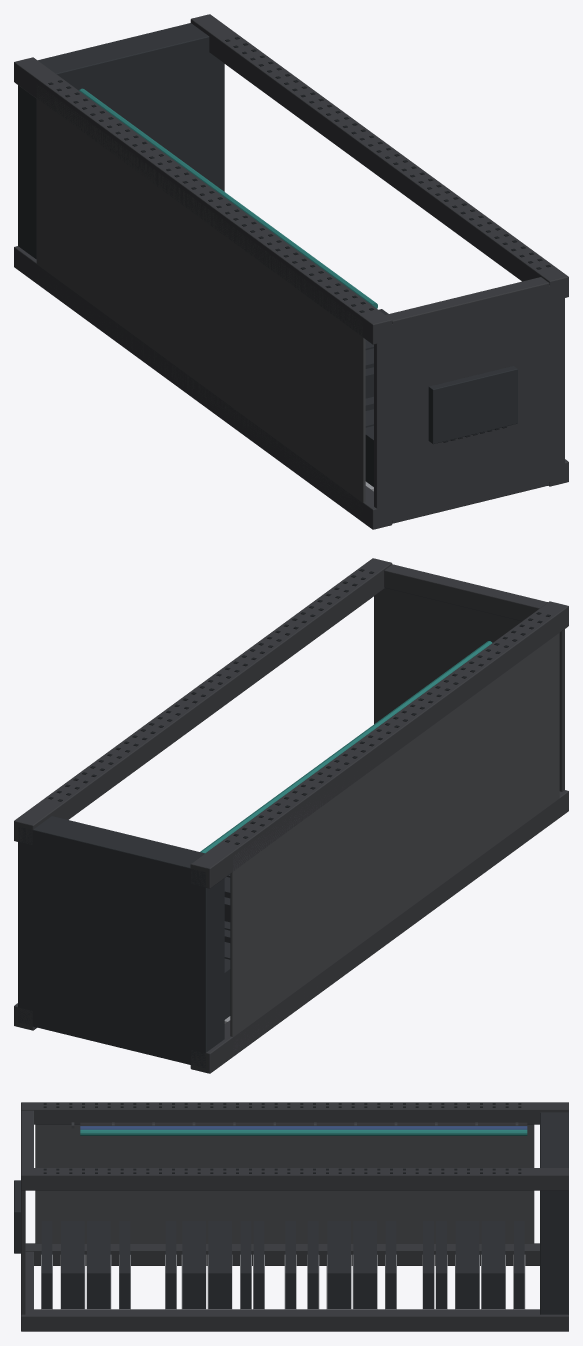
File: server_rack_rackshell.glb
The picture shows the model from 3 angles, top to bottom: view 1: azimuth 30°, elevation 25°; view 2: azimuth 150°, elevation 25°; view 3: azimuth 270°, elevation 25°; orthographic projection. The views are drawn at different scales.
Parts seen in each view (by area): view 1: sidepanel_l, topcap, plinth, post-11, post11, post-10, topvent, beam_rear, beam_front, cbundle2; view 2: sidepanel_l, plinth, post-11, post11, topcap, post-10, beam_rear, cbundle2; view 3: sidepanel_l, post10, post11, post-11, plinth, post-10, cbundle2, dress01_body, dress02_body, dress06_body, dress07_body, dress12_body (+20 smaller).
Part boxes in pixels (left/top/right/bottom): sidepanel_l: left=36, top=84, right=365, bottom=516; topcap: left=374, top=283, right=564, bottom=523; plinth: left=18, top=23, right=224, bottom=259; post-11: left=14, top=57, right=392, bottom=344; post11: left=190, top=14, right=568, bottom=300; post-10: left=14, top=246, right=392, bottom=529; topvent: left=428, top=366, right=517, bottom=444; beam_rear: left=386, top=277, right=549, bottom=337; beam_front: left=392, top=469, right=549, bottom=523; cbundle2: left=79, top=88, right=377, bottom=308; sidepanel_l: left=230, top=633, right=559, bottom=1050; plinth: left=18, top=816, right=224, bottom=1067; post-11: left=190, top=601, right=568, bottom=888; post11: left=14, top=558, right=392, bottom=844; topcap: left=374, top=588, right=564, bottom=791; post-10: left=190, top=790, right=568, bottom=1073; beam_rear: left=384, top=564, right=547, bottom=621; cbundle2: left=200, top=641, right=492, bottom=853; sidepanel_l: left=35, top=1124, right=534, bottom=1243; post10: left=21, top=1309, right=568, bottom=1331; post11: left=21, top=1168, right=568, bottom=1190; post-11: left=21, top=1102, right=568, bottom=1124; plinth: left=540, top=1112, right=568, bottom=1314; post-10: left=25, top=1243, right=539, bottom=1265; cbundle2: left=80, top=1129, right=527, bottom=1135; dress01_body: left=481, top=1221, right=505, bottom=1308; dress02_body: left=455, top=1221, right=479, bottom=1308; dress06_body: left=353, top=1221, right=376, bottom=1308; dress07_body: left=327, top=1221, right=350, bottom=1308; dress12_body: left=208, top=1221, right=231, bottom=1308.
Bounding box in the file's own units: 0.6 × 0.603 × 1.92.
